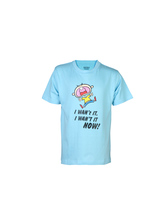clothoes: (44, 58, 134, 173)
